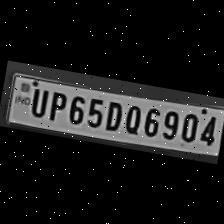0: (176, 108, 200, 143)
4: (195, 111, 220, 147)
5: (82, 94, 106, 128)
6: (138, 103, 162, 139), (62, 92, 86, 125)
9: (158, 106, 180, 140)
D: (101, 96, 125, 132)
P: (44, 87, 68, 123)
Q: (121, 100, 144, 135)
U: (25, 84, 49, 119)
